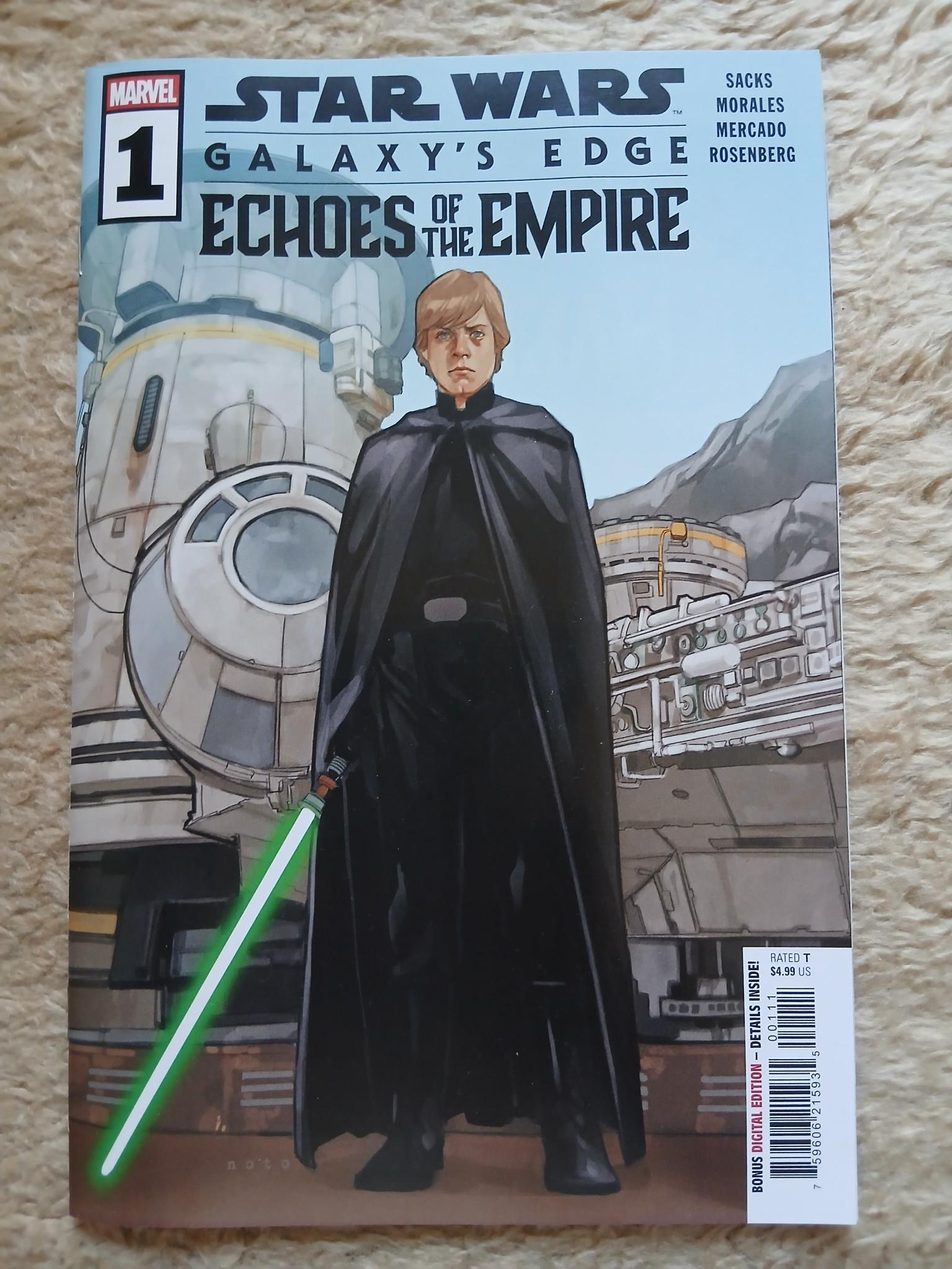comic: (53, 48, 856, 1236)
